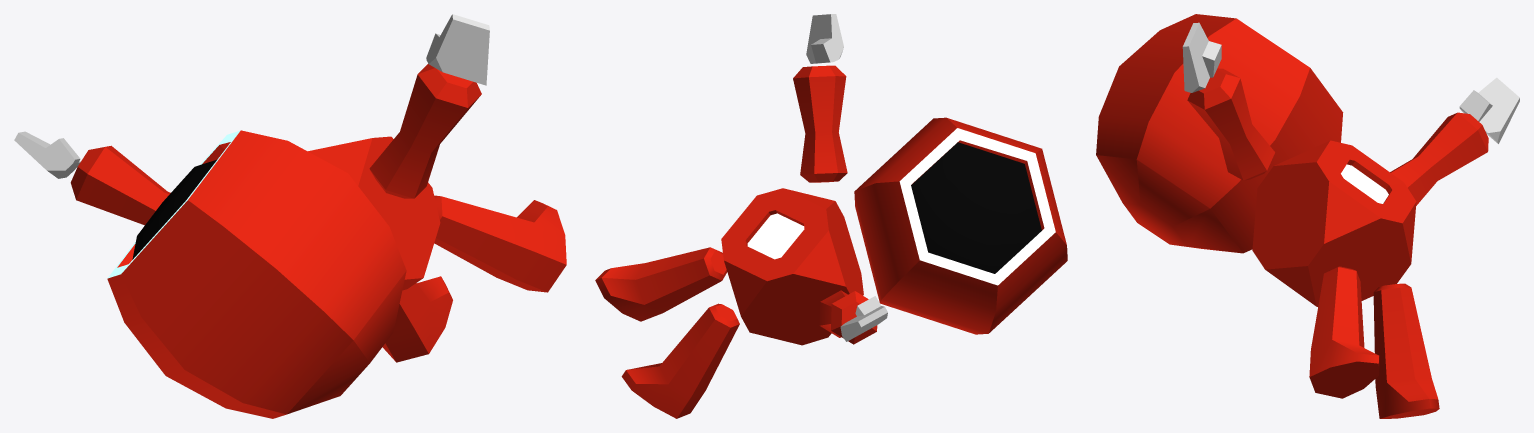
File: astronaut.glb
3 renders of one model, left to right at view 1: azimuth 30°, elevation 25°; view 2: azimuth 150°, elevation 25°; view 3: azimuth 270°, elevation 25°, orthographic. The views are drawn at different scales.
Parts seen in each view (by area): view 1: Body, Hands, Glass, Lights; view 2: Body, Glass, Lights, Hands; view 3: Body, Hands, Lights.
Part boxes in pixels (box(x1,y1,x2,y2)): Body: box(70, 64, 566, 418); Hands: box(14, 14, 489, 178); Glass: box(132, 159, 216, 259); Lights: box(107, 130, 240, 278); Body: box(595, 65, 1067, 418); Glass: box(911, 142, 1041, 273); Lights: box(747, 128, 1055, 285); Hands: box(806, 14, 887, 341); Body: box(1096, 14, 1488, 418); Hands: box(1182, 22, 1519, 143); Lights: box(1341, 164, 1388, 203).
Bounding box in the file's own units: 0.1864 × 0.1567 × 0.1625.
